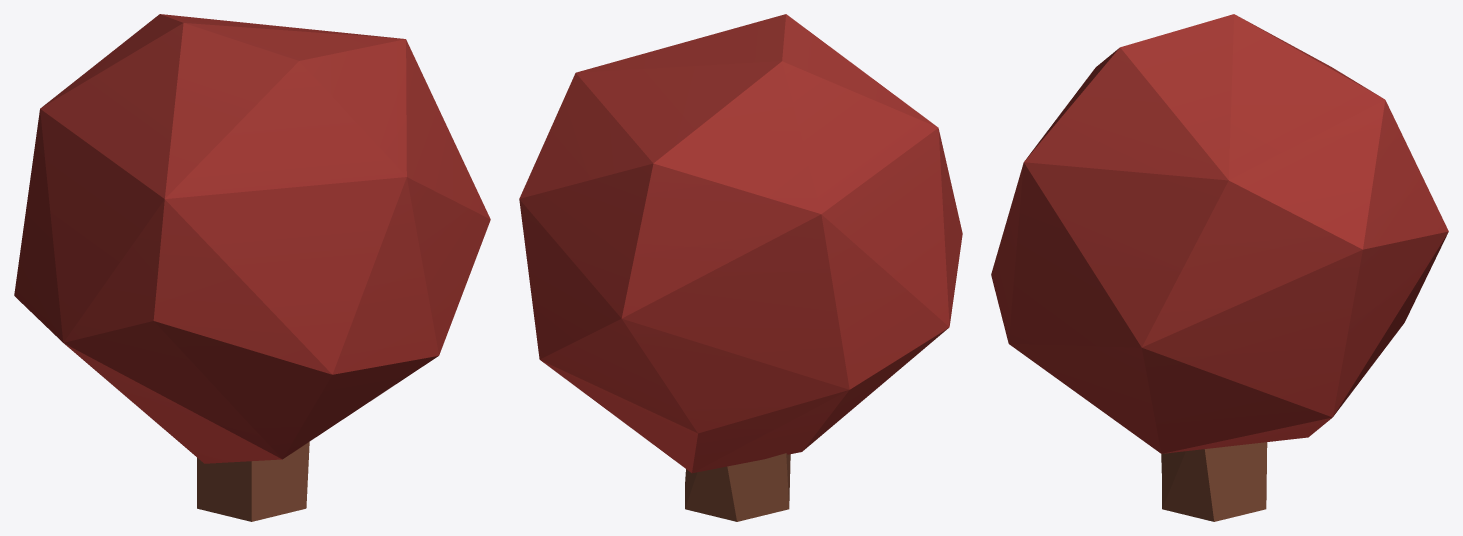
The model's file is Bush_3_gradient_red_vc.fbx.
3 renders of one model, left to right at view 1: azimuth 30°, elevation 25°; view 2: azimuth 150°, elevation 25°; view 3: azimuth 270°, elevation 25°, orthographic. The views are drawn at different scales.
Parts seen in each view (by area): view 1: Bush_3_gradient_red_vc; view 2: Bush_3_gradient_red_vc; view 3: Bush_3_gradient_red_vc.
Part boxes in pixels (left/top/right/bottom): Bush_3_gradient_red_vc: left=14, top=14, right=490, bottom=521; Bush_3_gradient_red_vc: left=519, top=14, right=962, bottom=521; Bush_3_gradient_red_vc: left=991, top=14, right=1448, bottom=521.
Size of the model in its own units: 35 by 39.36 by 35.84.
